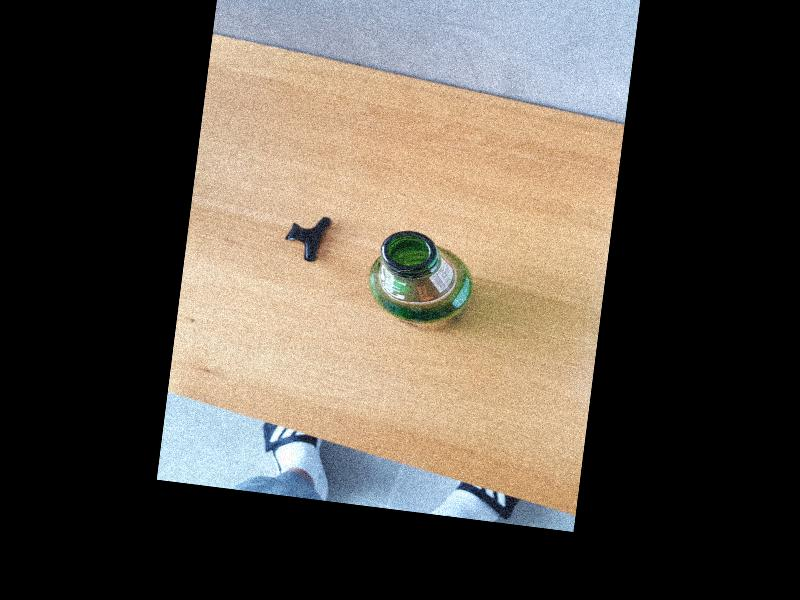Beer: (360, 226, 478, 336)
